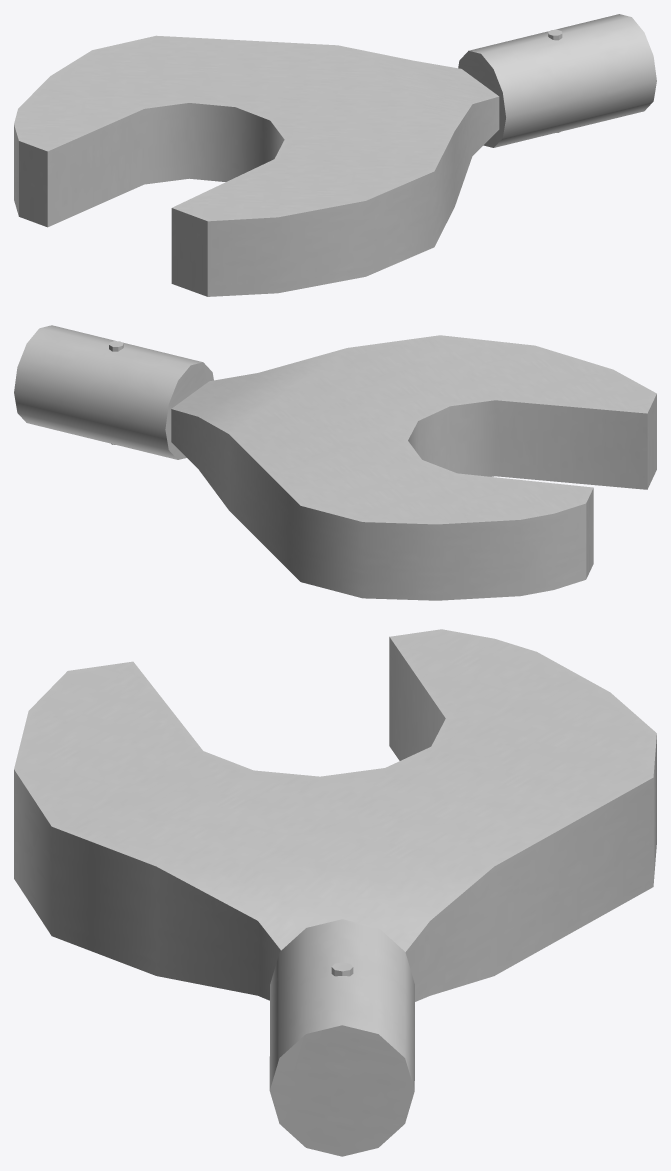
The model's file is tool_torque_wrench_nozzle_05.glb.
The picture shows the model from 3 angles, top to bottom: view 1: azimuth 30°, elevation 25°; view 2: azimuth 150°, elevation 25°; view 3: azimuth 270°, elevation 25°; orthographic projection. The views are drawn at different scales.
Parts seen in each view (by area): view 1: tool_torque_wrench_nozzle_05; view 2: tool_torque_wrench_nozzle_05; view 3: tool_torque_wrench_nozzle_05.
Boxes of the visible parts, x1,y1,x2,y2 form: tool_torque_wrench_nozzle_05: (14,14,656,296); tool_torque_wrench_nozzle_05: (14,325,656,600); tool_torque_wrench_nozzle_05: (14,629,656,1156).
Bounding box in the file's own units: 0.0836 × 0.0135 × 0.0558.
Materials: 1 (1 with a texture image).
